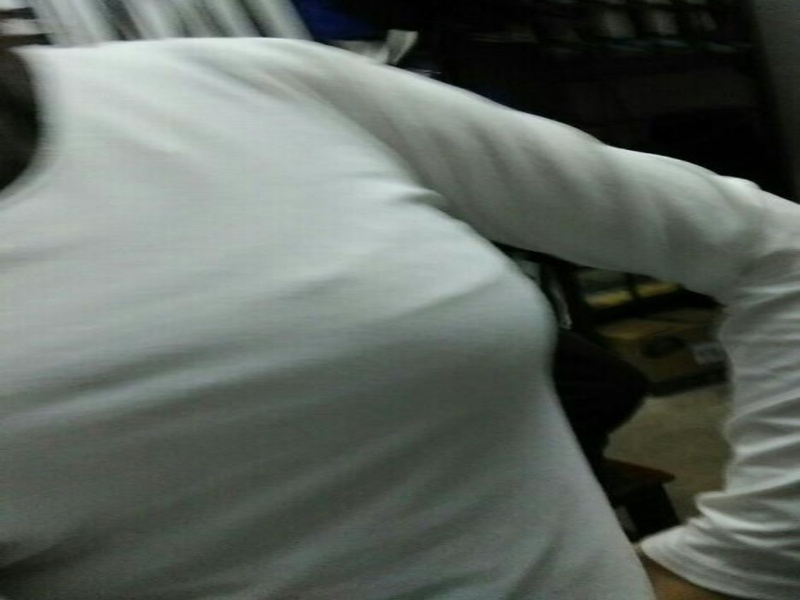long_sleeved_shirt: (2, 35, 793, 599)
